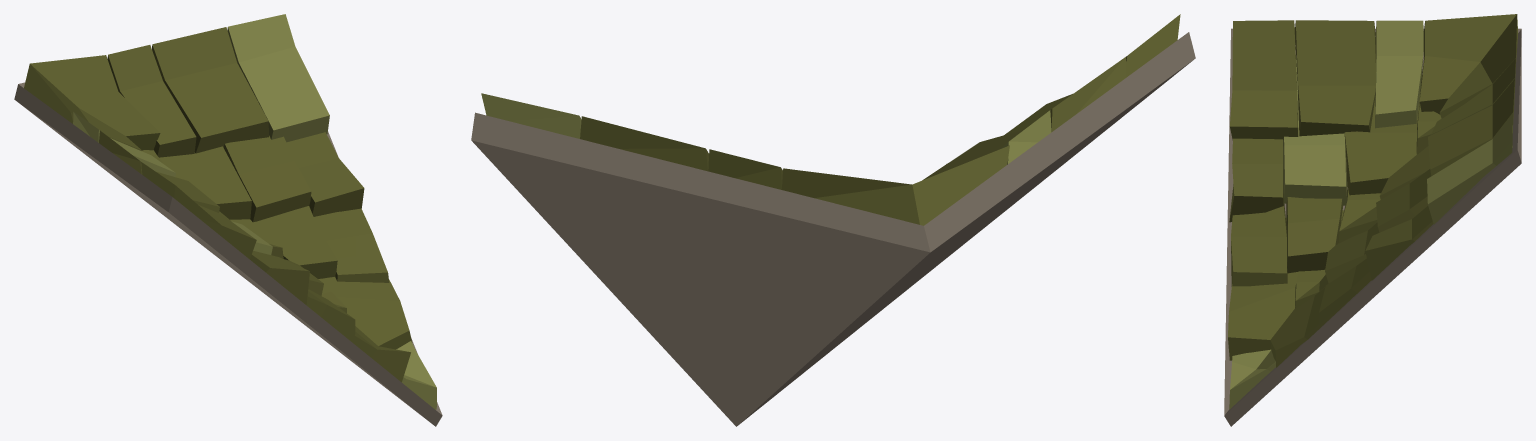
Rendered from _ROOF_INNER_CORNER_1.fbx.
The picture shows the model from 3 angles, left to right: view 1: azimuth 30°, elevation 25°; view 2: azimuth 150°, elevation 25°; view 3: azimuth 270°, elevation 25°; orthographic projection. The views are drawn at different scales.
Visible parts, largest first — view 1: ROOF_INNER_CORNER_1; view 2: ROOF_INNER_CORNER_1; view 3: ROOF_INNER_CORNER_1.
Boxes of the visible parts, x1,y1,x2,y2 form: ROOF_INNER_CORNER_1: [14, 14, 442, 426]; ROOF_INNER_CORNER_1: [471, 14, 1195, 426]; ROOF_INNER_CORNER_1: [1224, 14, 1521, 426].
Size of the model in its own units: 101 by 112 by 102.
